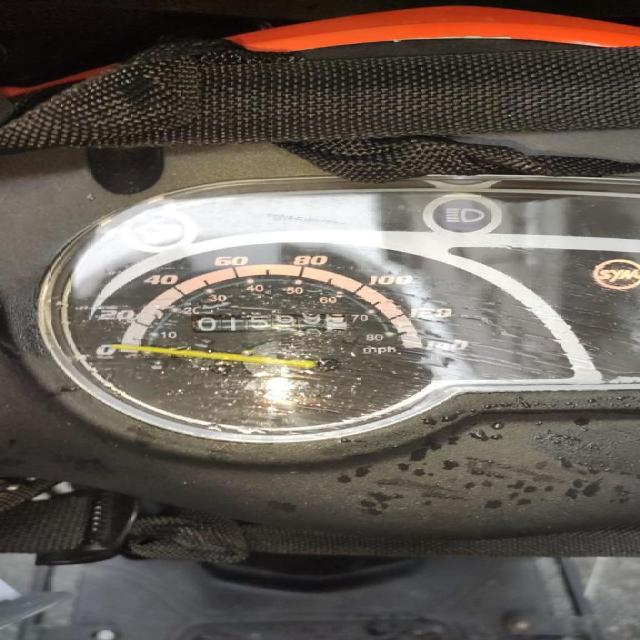odometer: (188, 311, 351, 333)
